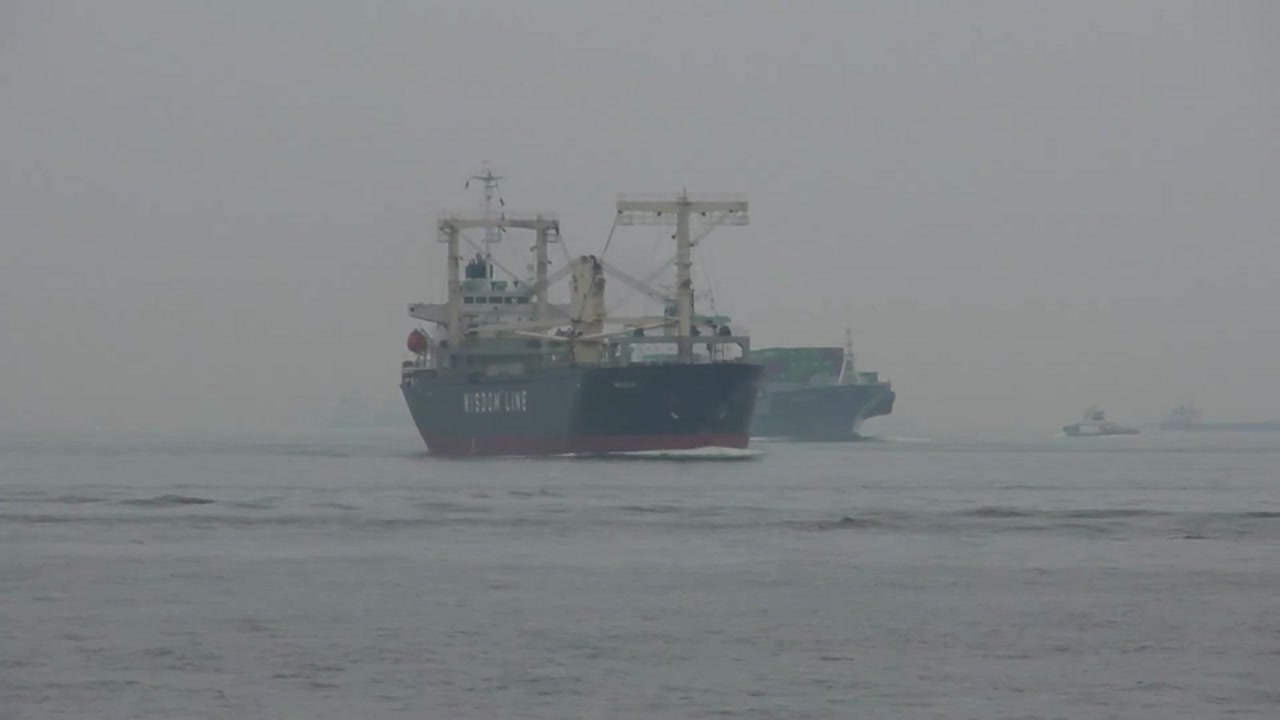boat: (396, 168, 761, 452)
